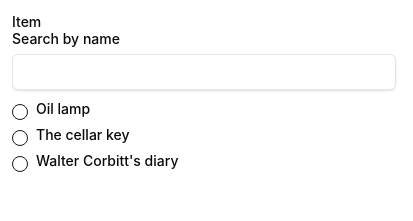
ItemPicker › chooses an Item and names it on a Selected line (SP-UX-98, SP-A11Y-52)
Click the radio button named "The cellar key" next to "The cellar key". click: (20, 138)
box: [12,130,28,146]
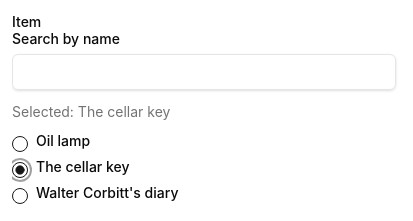
Expected: the 2nd radio button named "The cellar key" is checked, [12,162,28,178]
Expected: the text "Selected: The cellar key" is shown, [12,103,170,120]
